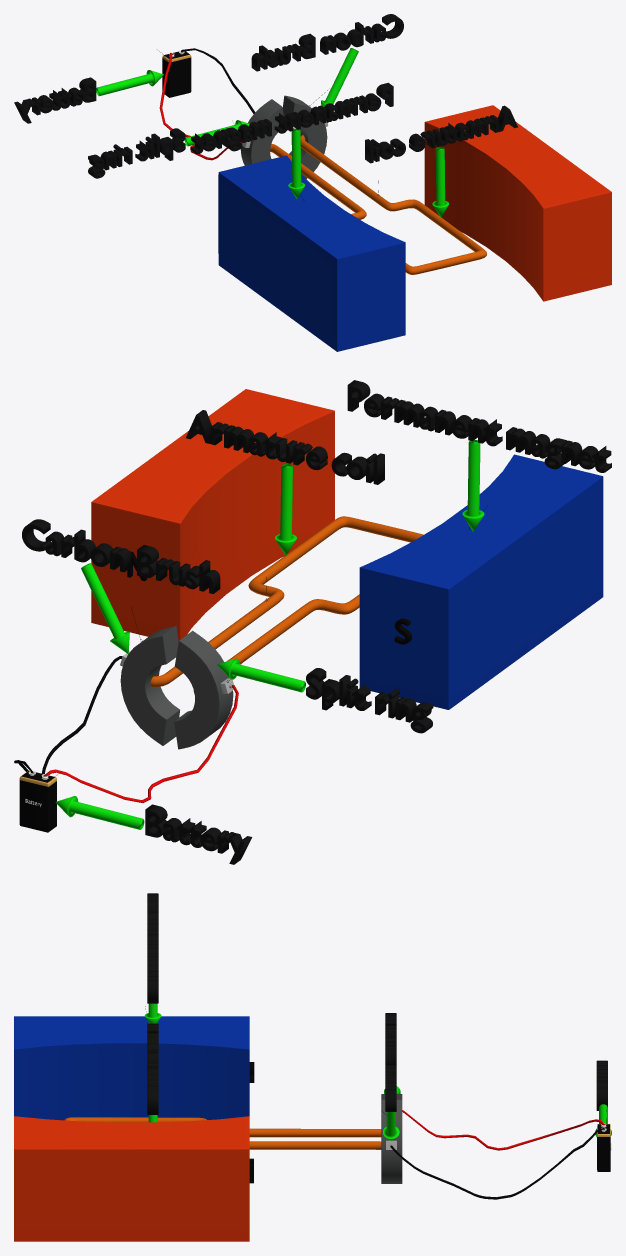
The model's file is Electric_motor.fbx.
The picture shows the model from 3 angles, top to bottom: view 1: azimuth 30°, elevation 25°; view 2: azimuth 150°, elevation 25°; view 3: azimuth 270°, elevation 25°; orthographic projection. The views are drawn at different scales.
Parts seen in each view (by area): view 1: node_id33, node_id31, Text.003, node_id69, Text.004, Text.002, node_id66, Text.000, Text.001, node_id79, Cylinder.001, Cylinder.002 (+2 smaller); view 2: node_id33, node_id31, node_id66, Text.003, node_id69, Text.004, Text.002, Text.000, Text.001, node_id79, Cylinder.004, Cylinder.002 (+5 smaller); view 3: node_id31, node_id33, node_id69, node_id66, Text.003, Text.002, Text.004, node_id58, node_id56, node_id79, Text.001.
Boxes of the visible parts, x1=… form: node_id33: x1=218, y1=155, x2=405, y2=351; node_id31: x1=424, y1=105, x2=611, y2=301; Text.003: x1=190, y1=82, x2=393, y2=153; node_id69: x1=270, y1=135, x2=486, y2=274; Text.004: x1=251, y1=14, x2=403, y2=71; Text.002: x1=365, y1=105, x2=517, y2=163; node_id66: x1=240, y1=95, x2=327, y2=178; Text.000: x1=88, y1=128, x2=185, y2=178; Text.001: x1=14, y1=77, x2=96, y2=123; node_id79: x1=162, y1=51, x2=191, y2=97; Cylinder.001: x1=96, y1=70, x2=163, y2=96; Cylinder.002: x1=432, y1=147, x2=449, y2=217; node_id33: x1=359, y1=454, x2=603, y2=709; node_id31: x1=91, y1=389, x2=334, y2=641; node_id66: x1=120, y1=626, x2=233, y2=749; Text.003: x1=347, y1=380, x2=611, y2=472; node_id69: x1=150, y1=516, x2=423, y2=693; Text.004: x1=22, y1=519, x2=220, y2=593; Text.002: x1=186, y1=410, x2=384, y2=484; Text.000: x1=306, y1=668, x2=433, y2=733; Text.001: x1=145, y1=804, x2=252, y2=864; node_id79: x1=19, y1=770, x2=56, y2=832; Cylinder.004: x1=81, y1=563, x2=129, y2=653; Cylinder.002: x1=275, y1=464, x2=296, y2=555; node_id31: x1=14, y1=1116, x2=249, y2=1241; node_id33: x1=14, y1=1016, x2=249, y2=1120; node_id69: x1=64, y1=1117, x2=381, y2=1149; node_id66: x1=381, y1=1094, x2=402, y2=1183; Text.003: x1=147, y1=893, x2=158, y2=1003; Text.002: x1=147, y1=1023, x2=158, y2=1114; Text.004: x1=385, y1=1028, x2=396, y2=1111; node_id58: x1=390, y1=1128, x2=604, y2=1199; node_id56: x1=402, y1=1110, x2=604, y2=1150; node_id79: x1=597, y1=1124, x2=610, y2=1171; Text.001: x1=596, y1=1060, x2=607, y2=1110.
Size of the model in its own units: 288 by 152 by 431.
